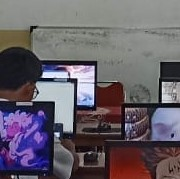monitor: (0, 101, 55, 176), (39, 60, 98, 111), (33, 78, 78, 139), (121, 103, 180, 141), (159, 61, 180, 104)
